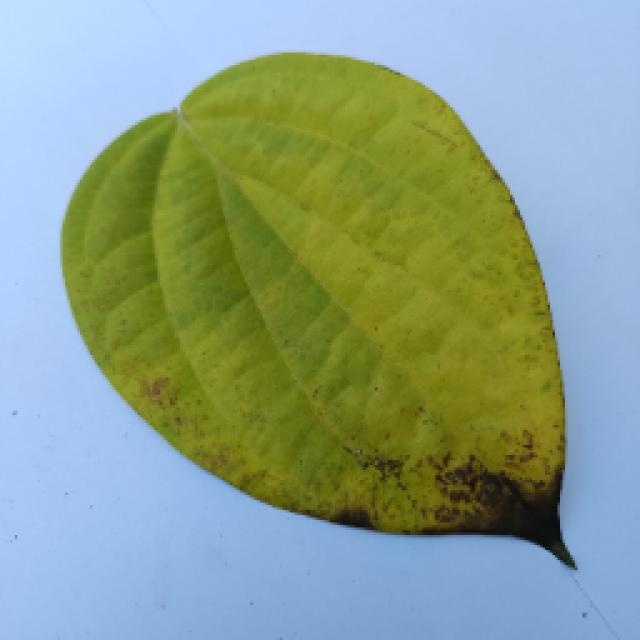slow-decline: (40, 60, 592, 582)
